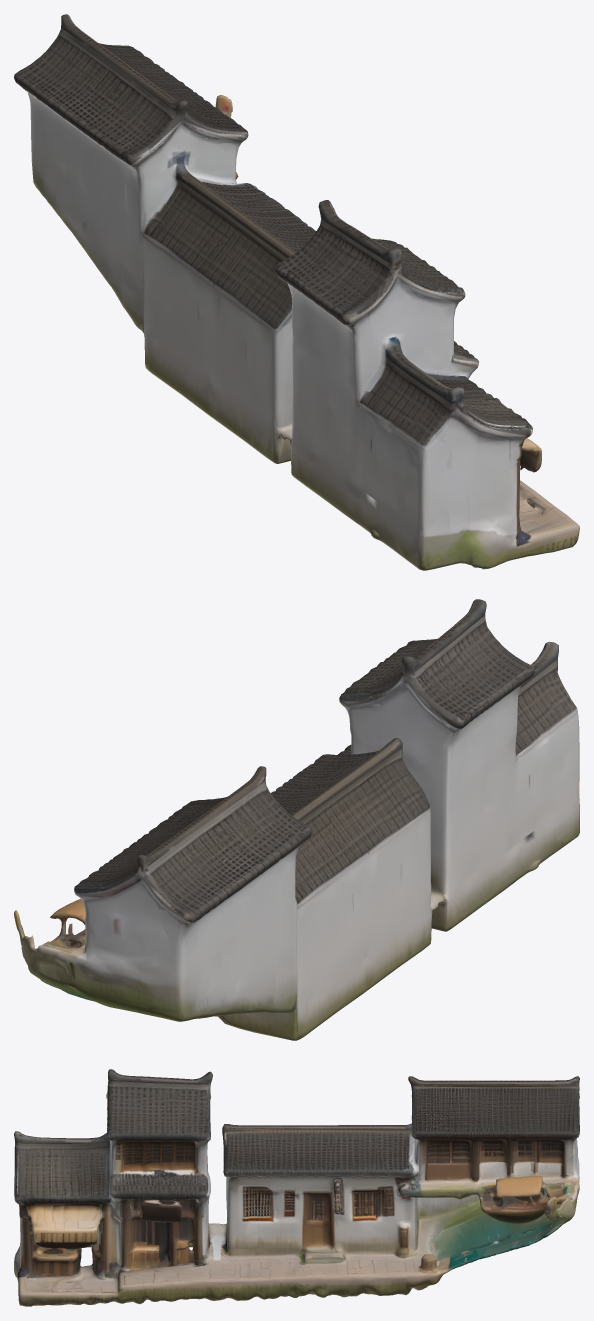
3 views of the same model, one above another, from view 1: azimuth 30°, elevation 25°; view 2: azimuth 150°, elevation 25°; view 3: azimuth 270°, elevation 25° (orthographic). The views are drawn at different scales.
Parts seen in each view (by area): view 1: material.001; view 2: material.001; view 3: material.001.
Part boxes in pixels (left/top/right/bottom): material.001: left=14, top=14, right=579, bottom=570; material.001: left=14, top=599, right=579, bottom=1040; material.001: left=14, top=1069, right=579, bottom=1306.
Size of the model in its own units: 0.3221 by 0.4293 by 1.12.
1 material, 1 textured.
